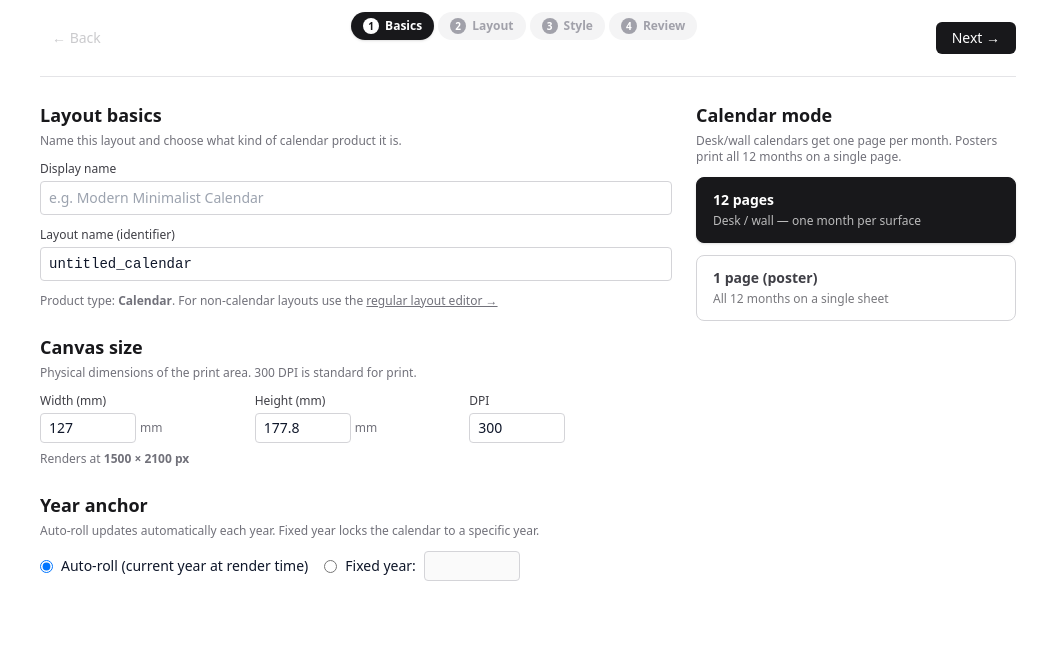
CalendarLayoutEditor — initial render › mounts with all primary sections present across the wizard steps
This screenshot has width=1057, height=670.
Expected: the navigation bar with test id "step-indicator" is shown, [351, 12, 697, 40]
Expected: the field with test id "layout-name" is shown, [40, 247, 672, 281]
What coordinates should you click on to do the following:
click the button "2 Layout"
I would click on:
 (482, 26)
Its box is [438, 12, 526, 40].
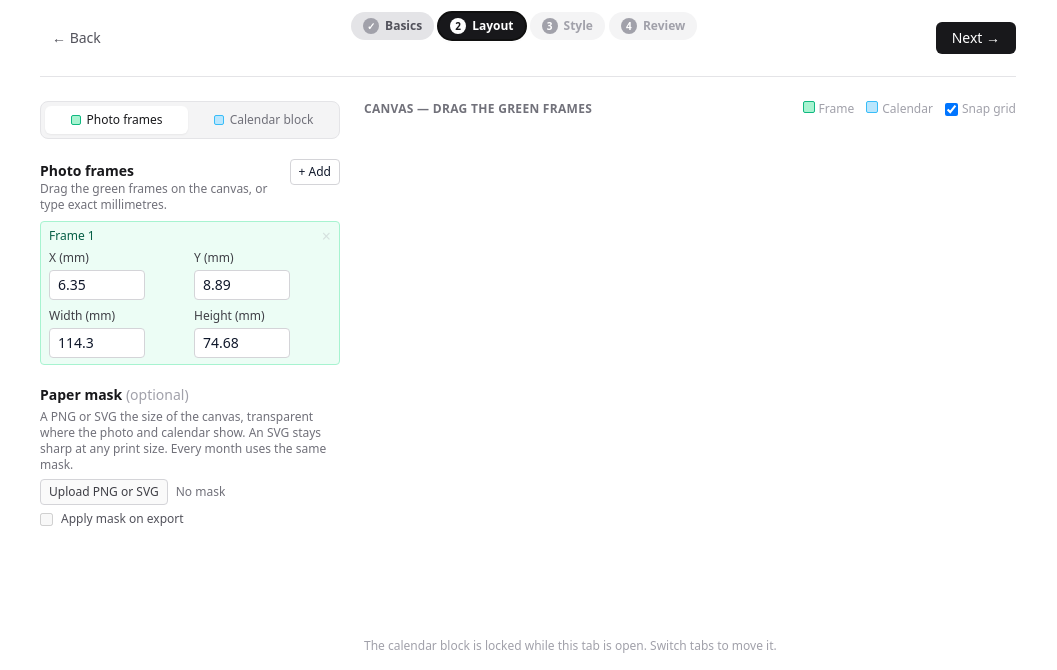
Expected: the element with test id "layout-tabs" is shown, [40, 101, 340, 139]
Expected: the panel with test id "frames-section" is shown, [40, 159, 340, 365]
Expected: the element with test id "mask-section" is shown, [40, 385, 340, 527]
What coordinates should you click on to do the following:
click the tab with test id "layout-tab-calendar"
I would click on:
 (264, 120)
Its box is [192, 106, 335, 134].
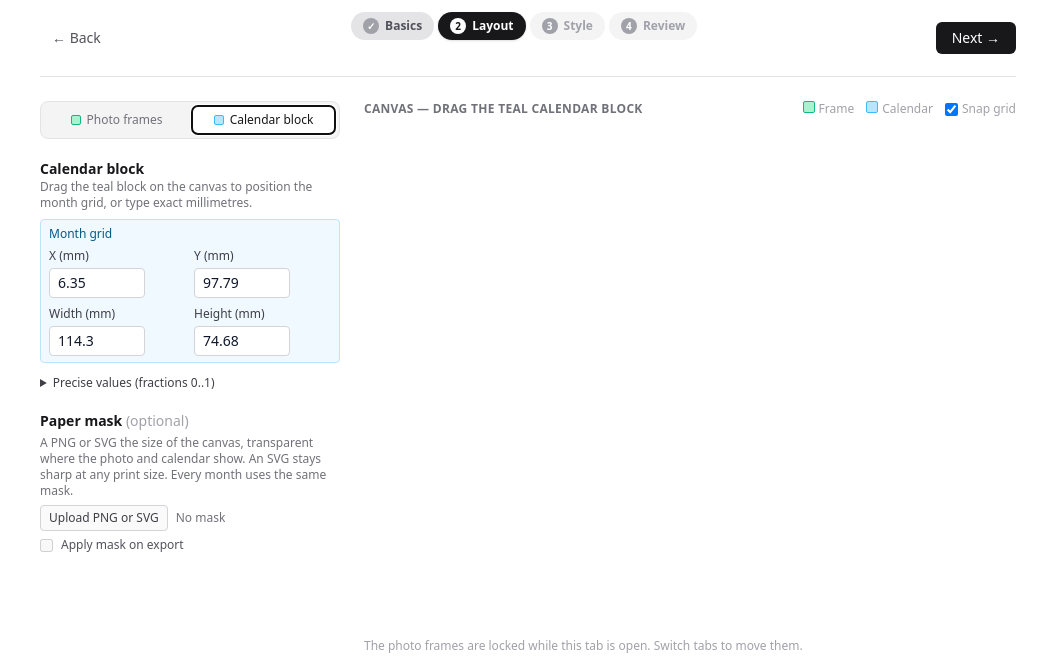
What coordinates should you click on to do the following:
click the button "3 Style"
I would click on:
 (567, 26)
Its box is [530, 12, 605, 40].
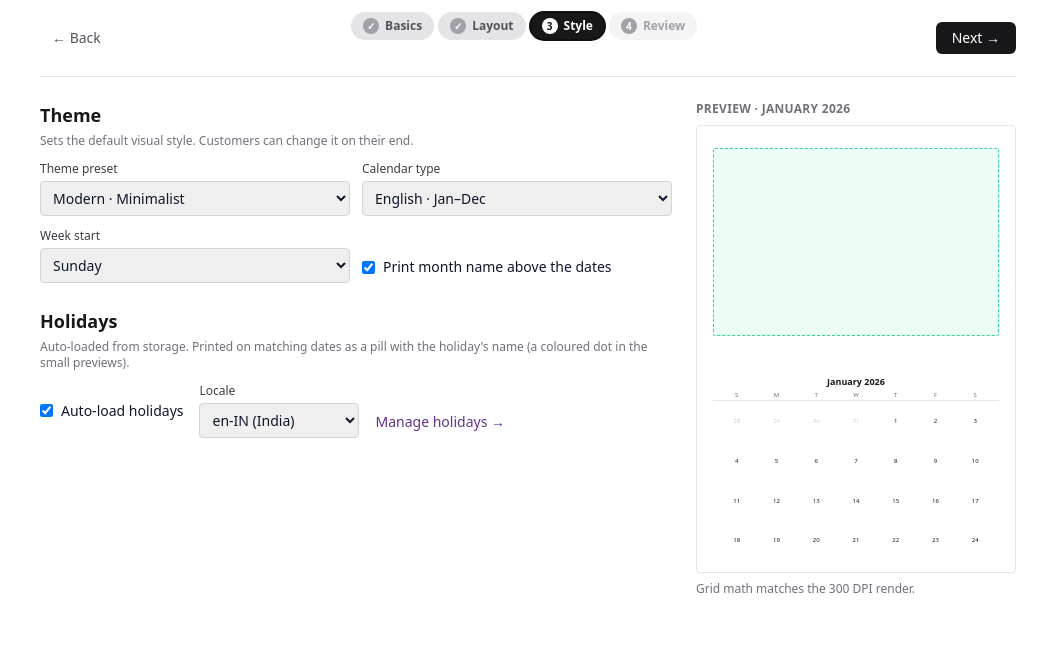
Expected: the element with test id "live-preview" is shown, [696, 101, 1016, 597]
Expected: the dropdown with test id "style-theme" is shown, [40, 181, 350, 216]
Expected: the dropdown with test id "style-calendar-type" is shown, [362, 181, 672, 216]
What coordinates should you click on to do the following:
click the button with test id "step-4"
I would click on:
 (653, 26)
Its box is [609, 12, 697, 40].
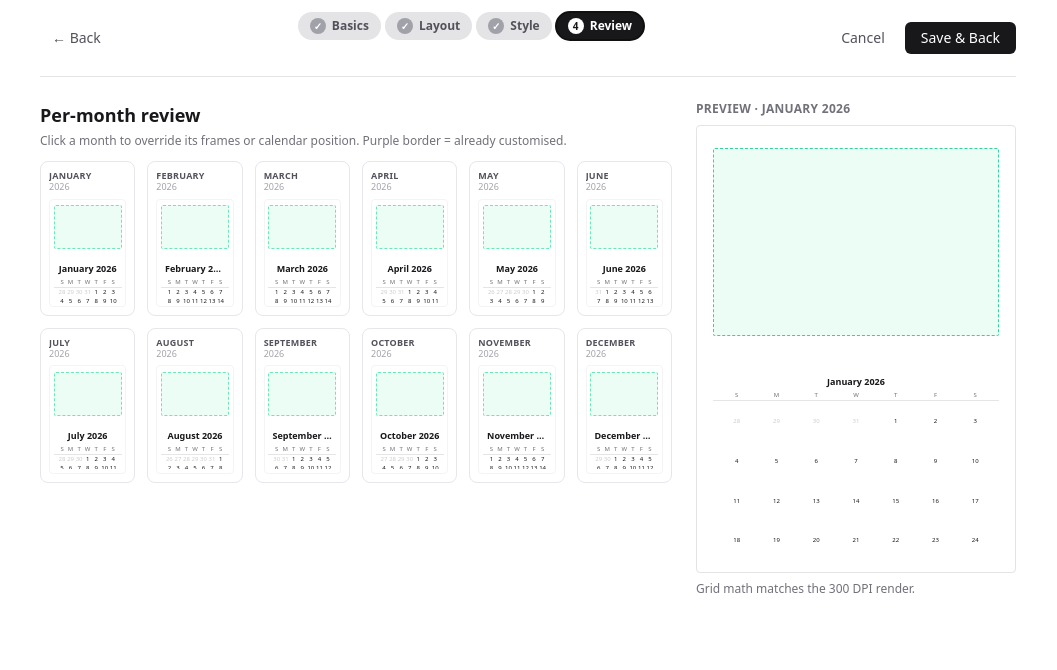
Expected: the element with test id "month-tile-pane" is shown, [40, 101, 672, 483]
Expected: the button with test id "save-btn" is shown, [905, 22, 1016, 54]
